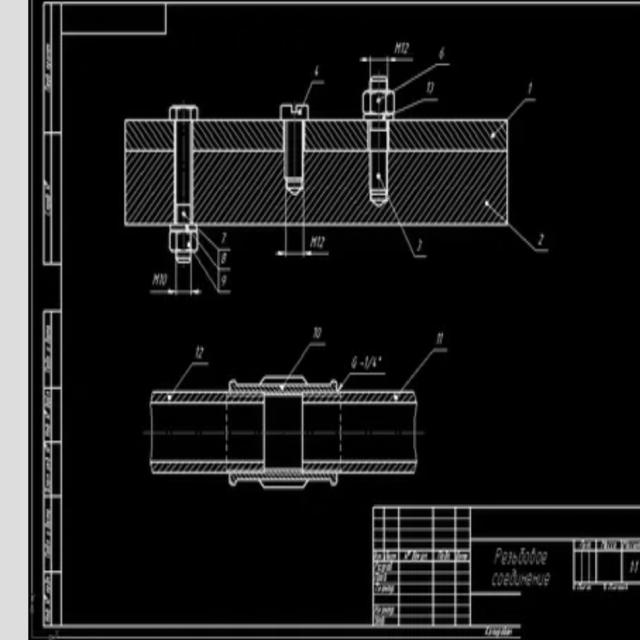marking_line: (403, 346, 449, 390), (201, 229, 230, 296), (396, 60, 451, 92), (294, 227, 334, 266), (200, 230, 231, 273), (509, 221, 549, 254), (289, 342, 326, 375), (359, 53, 414, 75), (175, 361, 210, 390), (149, 265, 181, 295), (401, 228, 430, 261), (397, 96, 439, 117), (340, 371, 386, 389), (201, 227, 229, 254), (509, 96, 538, 120), (277, 228, 293, 261), (303, 79, 324, 103), (189, 265, 200, 296)
numeric: (351, 353, 359, 370), (195, 345, 200, 360), (317, 327, 323, 339), (199, 347, 204, 359), (312, 326, 317, 338)
